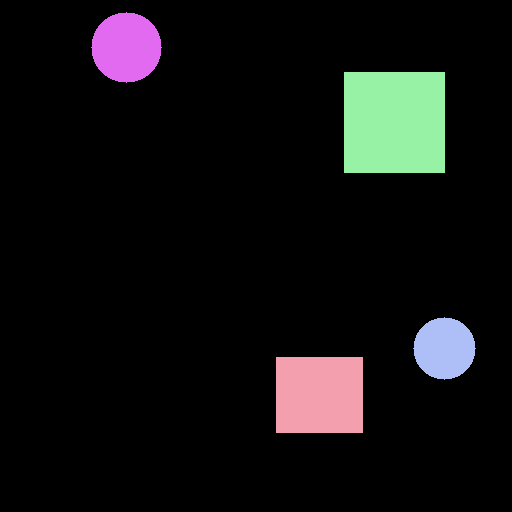circle: (91, 12, 161, 82), (413, 317, 475, 379)
rectangle: (276, 357, 362, 432)
square: (344, 72, 444, 172)
